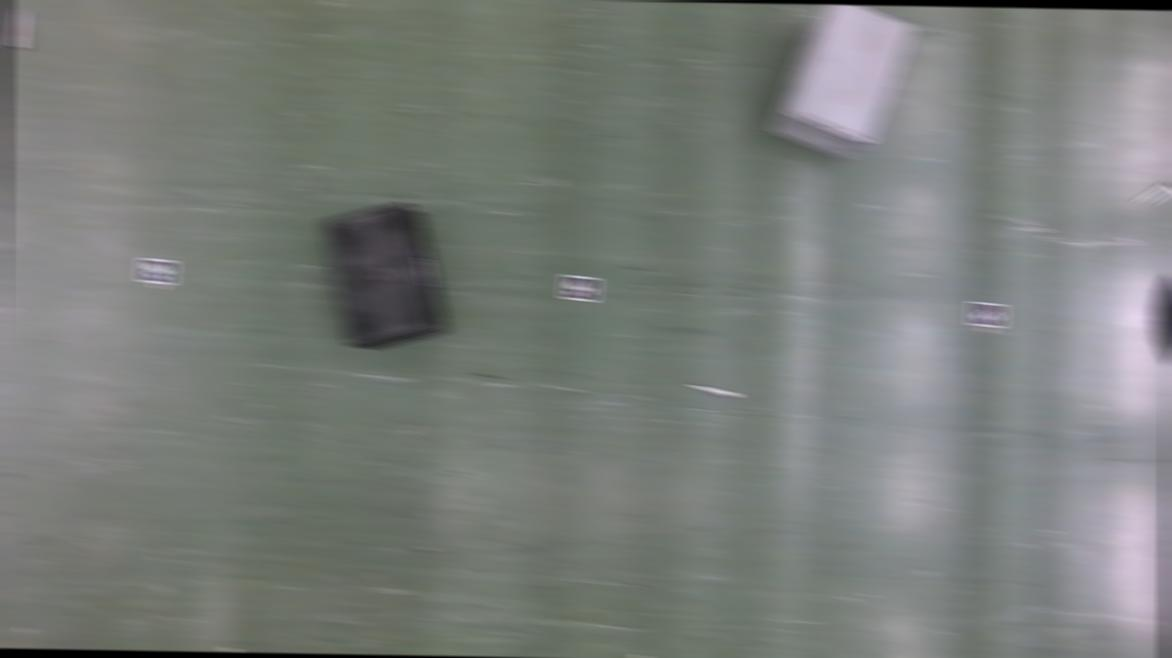probes: (1138, 180, 1172, 207), (692, 384, 737, 398), (10, 10, 26, 49)
rako: (766, 4, 914, 162), (318, 203, 451, 352)
